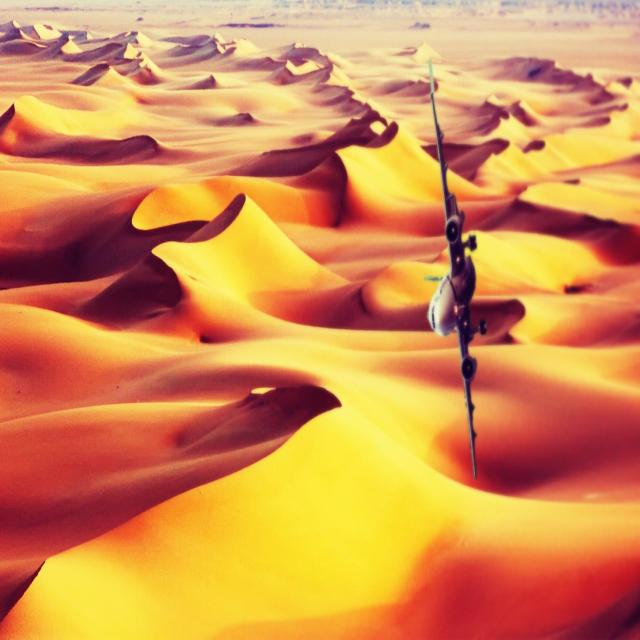airplane: (425, 56, 479, 478)
